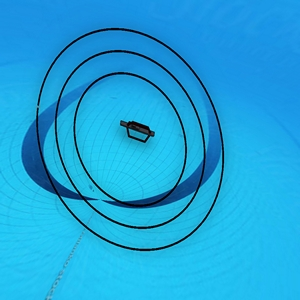circle: (32, 18, 230, 257)
submarine: (120, 118, 155, 144)
